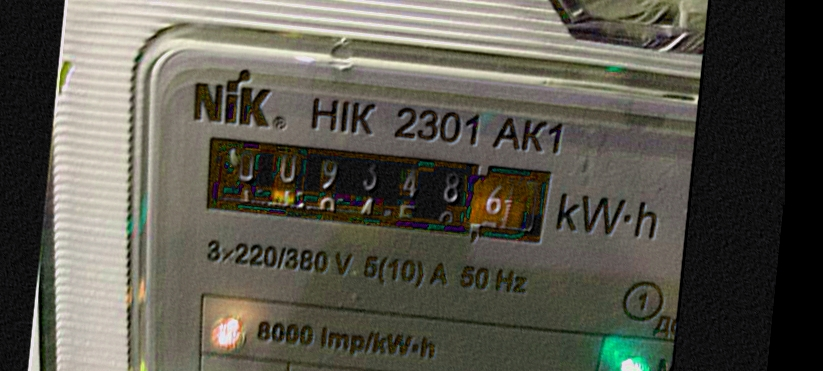0: (275, 149, 299, 187), (234, 147, 257, 183)
3: (357, 158, 382, 192)
4: (396, 162, 421, 201)
6: (482, 180, 507, 216)
8: (439, 168, 462, 204)
9: (318, 154, 339, 190)
screen: (178, 120, 571, 259)
